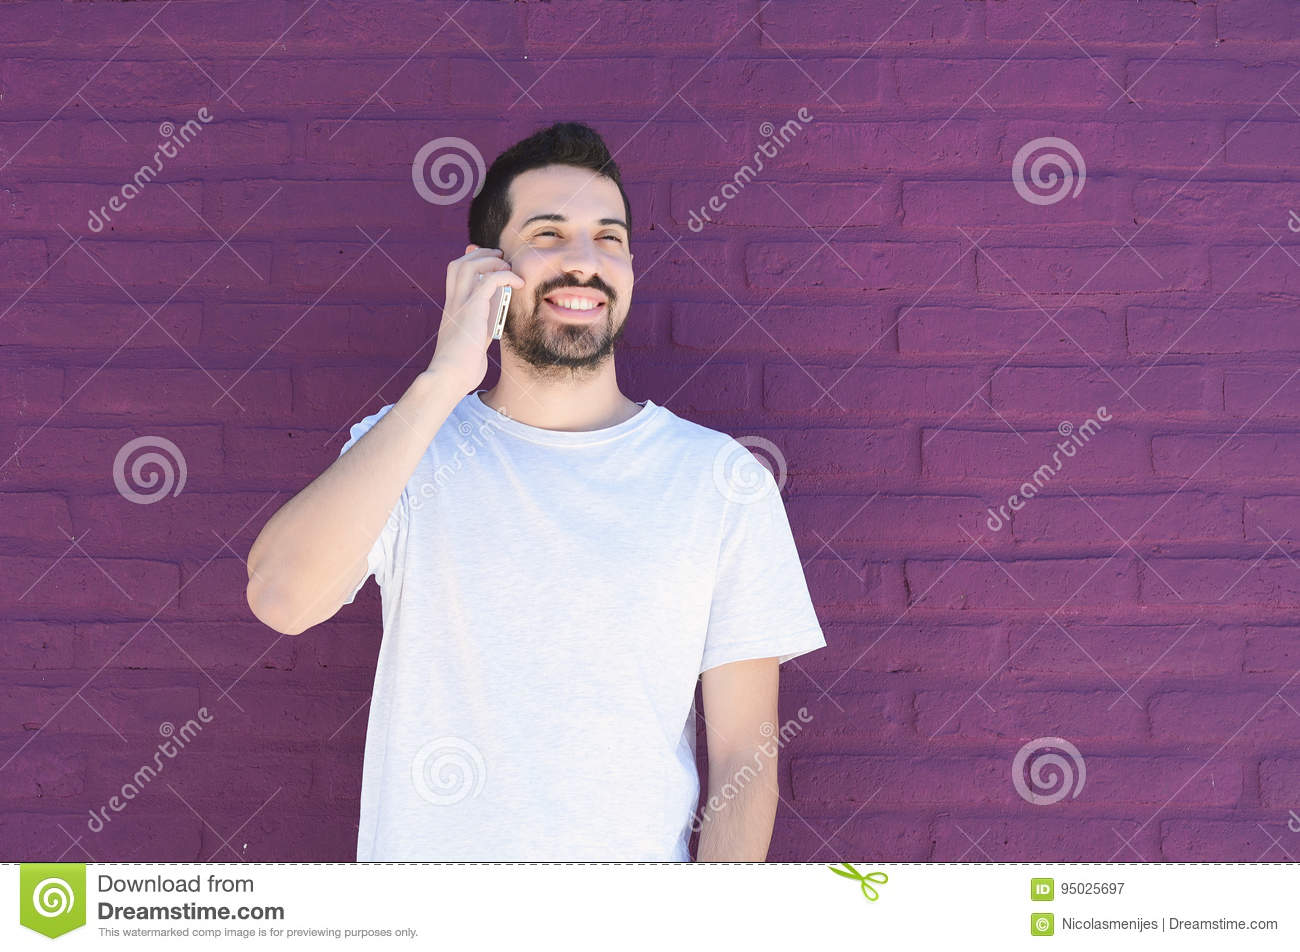talk: (433, 209, 633, 402)
